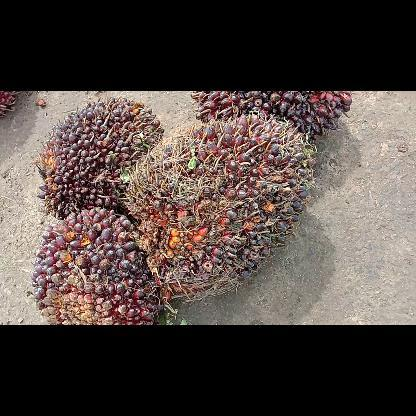Kurang masak: (121, 111, 316, 301), (36, 97, 164, 219), (30, 210, 166, 324), (190, 91, 352, 137)
